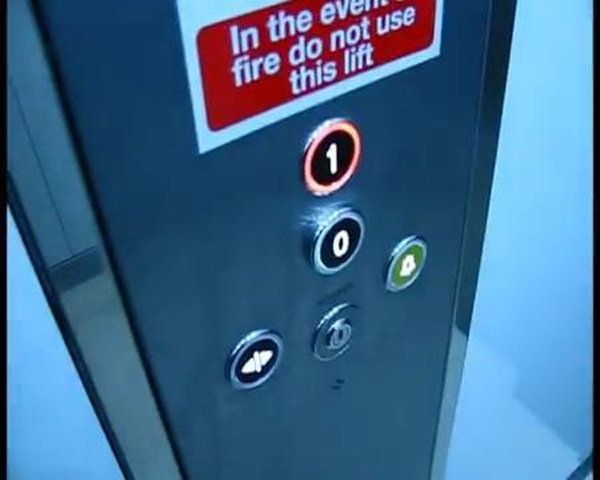0: (300, 202, 365, 276)
1: (300, 115, 362, 198)
alarm: (381, 234, 428, 292)
keyhole: (308, 300, 362, 360)
open: (225, 327, 287, 389)
